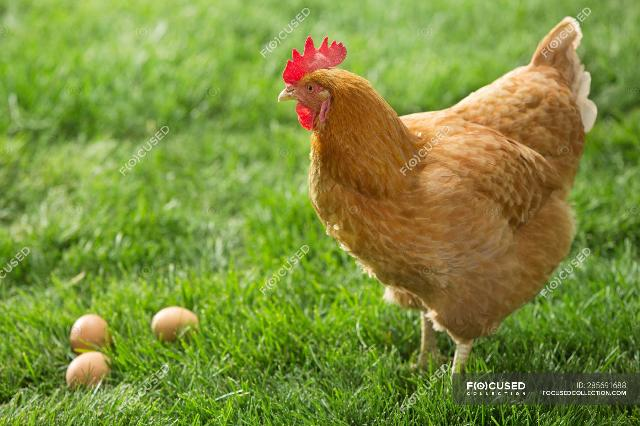Chicken: (276, 16, 599, 376)
